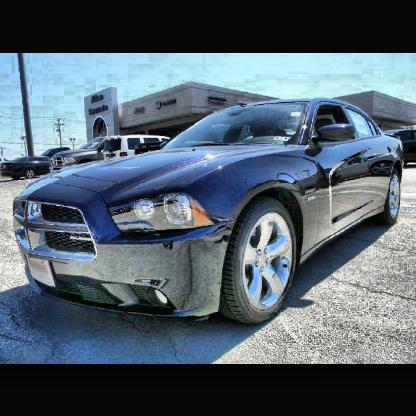Dodge Charger Sedan 2012: (11, 96, 408, 329)
